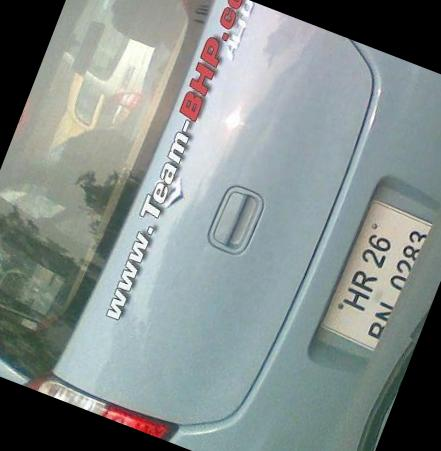plate: (315, 194, 437, 361)
